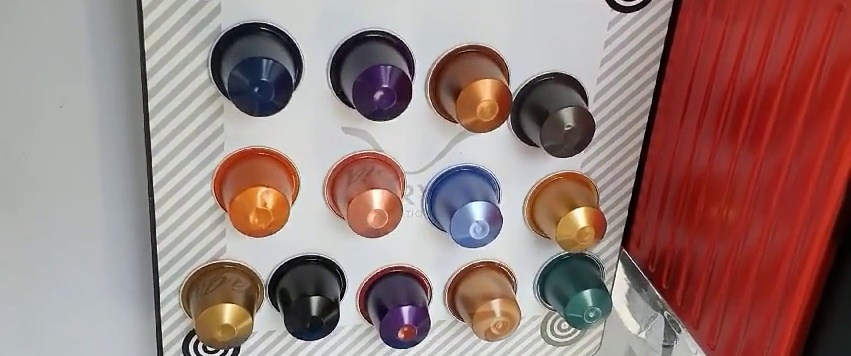capsule_1: (209, 20, 302, 118)
capsule_10: (267, 254, 348, 341)
capsule_11: (355, 266, 434, 350)
capsule_12: (441, 259, 524, 345)
capsule_13: (531, 250, 614, 332)
capsule_2: (323, 27, 417, 126)
capsule_3: (427, 41, 515, 135)
capsule_4: (508, 70, 596, 159)
capsule_5: (211, 147, 303, 238)
capsule_6: (324, 150, 407, 241)
capsule_7: (419, 162, 503, 251)
capsule_8: (523, 168, 609, 254)
capsule_9: (178, 259, 264, 348)
